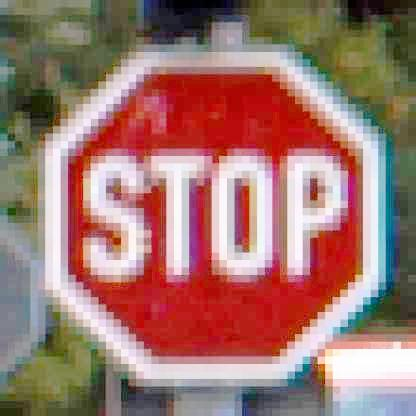Stop Sign: (47, 42, 392, 384)
